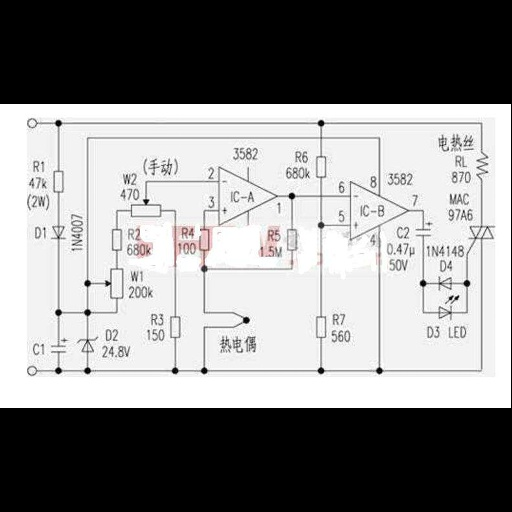amplifier: (215, 162, 278, 229), (348, 180, 407, 243)
firstpolarcapacitor: (412, 220, 435, 239), (48, 338, 69, 356)
firstresistance: (51, 168, 68, 197), (312, 312, 328, 342), (107, 226, 124, 254), (197, 226, 212, 255), (314, 153, 329, 182), (168, 312, 182, 342), (285, 226, 299, 255)
seconddiode: (436, 274, 456, 292), (49, 224, 66, 242)
secondled: (431, 293, 463, 322)
secondresistance: (473, 149, 491, 185)
